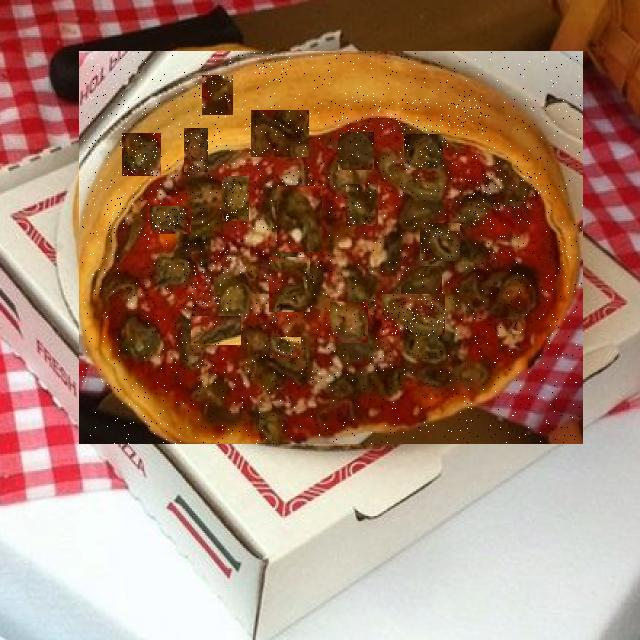Jalapenoes: (338, 99, 490, 135), (459, 173, 541, 225), (183, 237, 231, 311), (277, 186, 322, 252), (251, 110, 309, 157), (382, 294, 445, 336), (269, 257, 310, 312), (122, 133, 161, 176), (330, 302, 368, 343), (420, 223, 460, 261), (191, 316, 241, 345), (404, 134, 443, 170), (338, 132, 374, 170), (346, 184, 378, 226), (202, 75, 233, 115), (222, 176, 249, 221), (150, 206, 191, 234), (401, 266, 442, 294), (184, 128, 208, 172), (255, 56, 289, 86), (456, 272, 496, 297), (506, 286, 527, 326), (105, 191, 135, 216), (270, 337, 301, 358)
Pizza: (79, 51, 583, 444)
